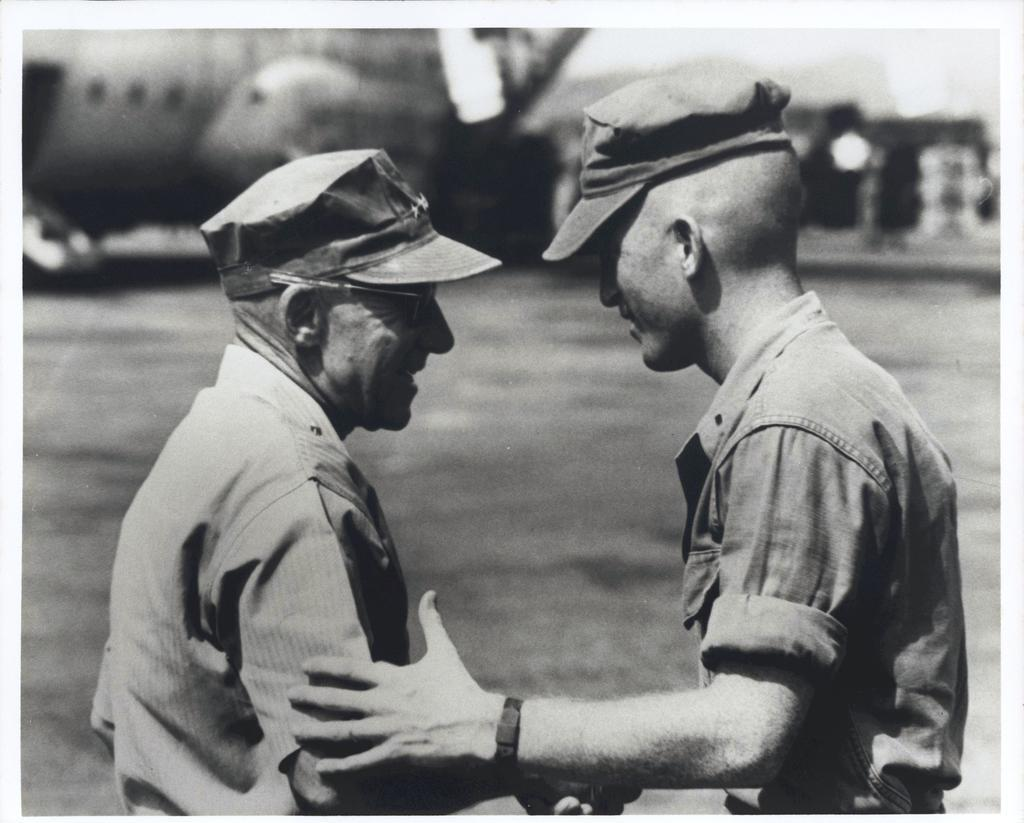Hat: (542, 52, 795, 262), (196, 146, 506, 300)
